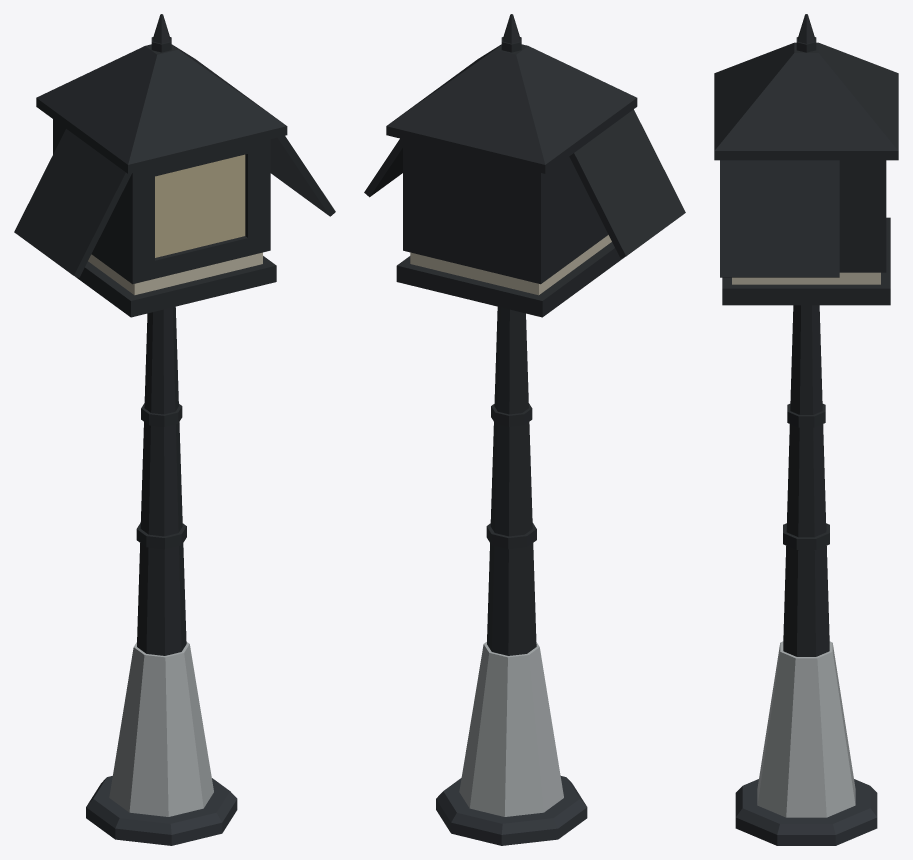
Rendered from blackout-lamp-post-3af3ca.glb.
The picture shows the model from 3 angles, left to right: view 1: azimuth 30°, elevation 25°; view 2: azimuth 150°, elevation 25°; view 3: azimuth 270°, elevation 25°; orthographic projection.
Parts seen in each view (by area): view 1: lantern-head, post, cowl-l-plate, cowl-r-plate; view 2: lantern-head, post, cowl-l-plate, cowl-r-plate; view 3: post, lantern-head, cowl-r-plate.
Part boxes in pixels (x1=…): lantern-head: x1=36, y1=14, x2=287, y2=317; post: x1=86, y1=306, x2=237, y2=845; cowl-l-plate: x1=14, y1=129, x2=131, y2=277; cowl-r-plate: x1=270, y1=135, x2=335, y2=216; lantern-head: x1=386, y1=14, x2=637, y2=317; post: x1=436, y1=306, x2=587, y2=845; cowl-l-plate: x1=569, y1=109, x2=685, y2=258; cowl-r-plate: x1=364, y1=138, x2=402, y2=197; post: x1=735, y1=305, x2=877, y2=845; lantern-head: x1=714, y1=14, x2=898, y2=305; cowl-r-plate: x1=720, y1=160, x2=839, y2=277.
Bounding box in the file's own units: 1.37 × 3.98 × 0.83.
